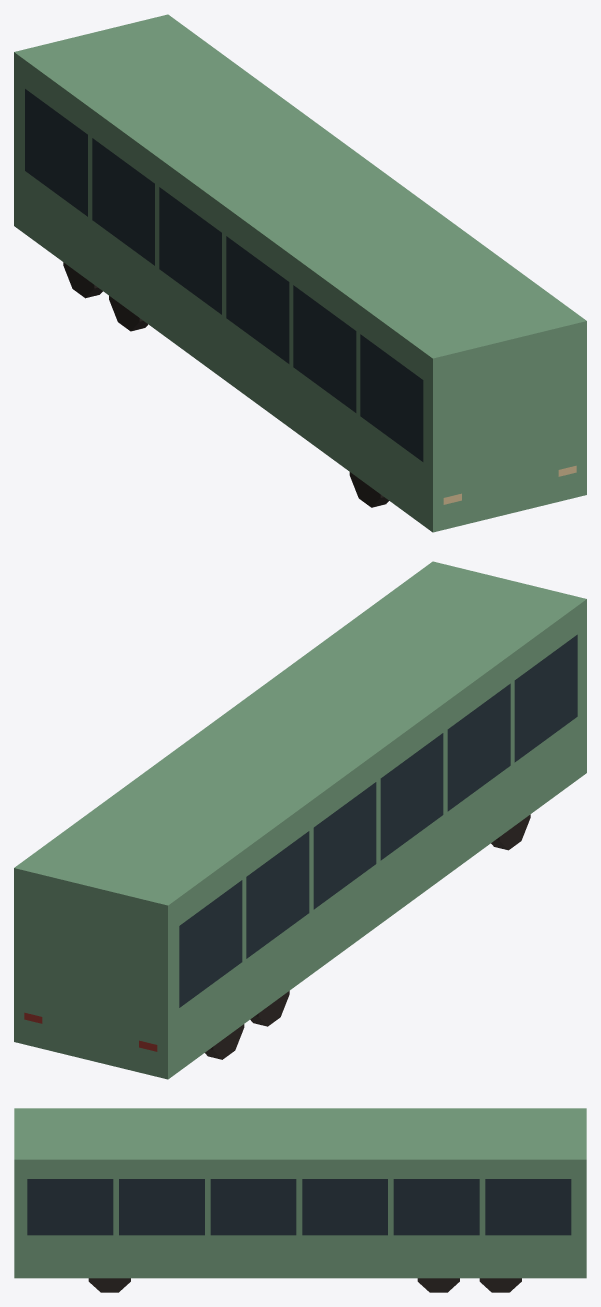
File: bus.glb
The picture shows the model from 3 angles, top to bottom: view 1: azimuth 30°, elevation 25°; view 2: azimuth 150°, elevation 25°; view 3: azimuth 270°, elevation 25°; orthographic projection. The views are drawn at different scales.
Bounding box in the file's own units: 2.55 × 3.1 × 12.02.
